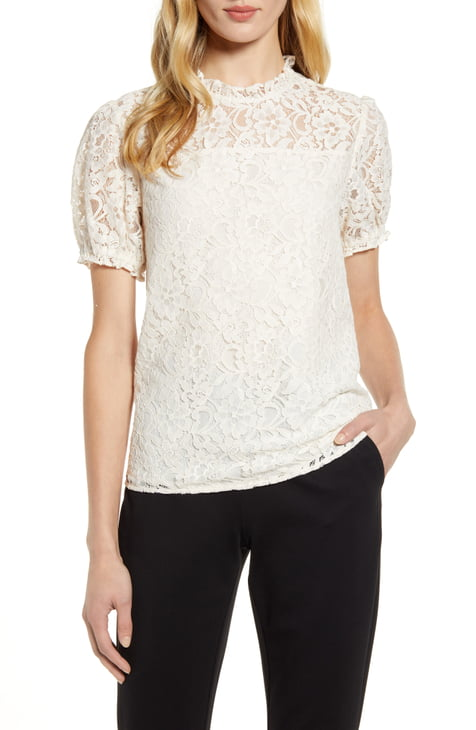C_W_pants: (112, 459, 386, 730)
S_short blouse: (70, 76, 413, 493)
